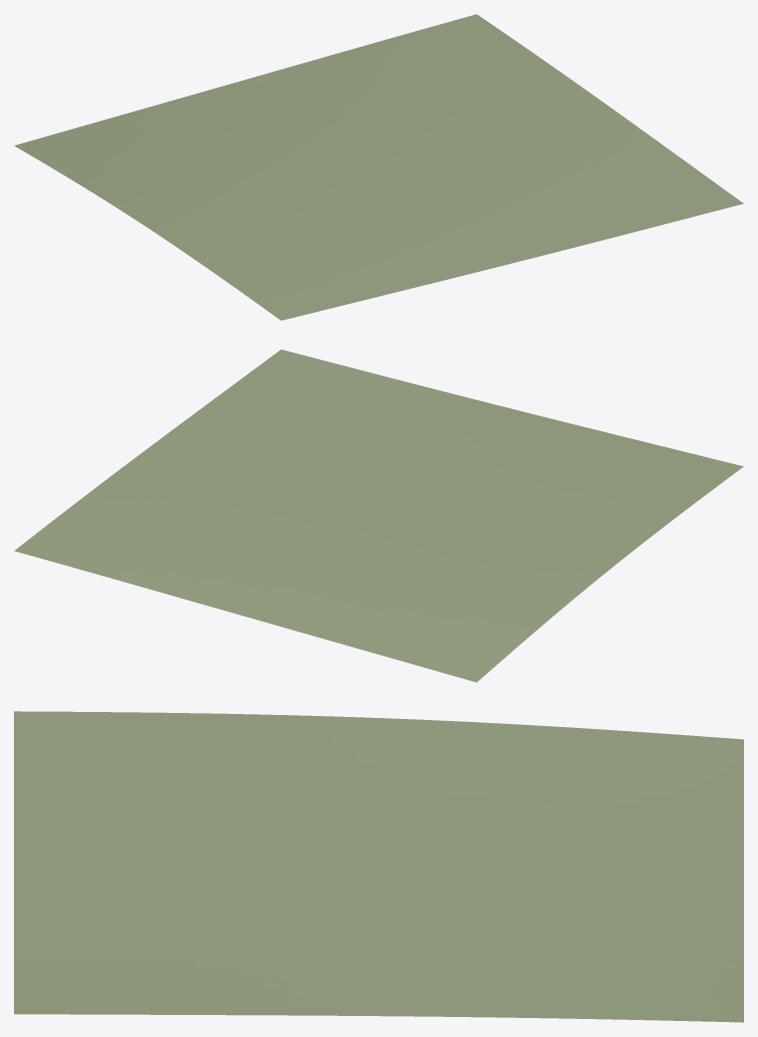
File: desert-26-6.glb
3 renders of one model, top to bottom at view 1: azimuth 30°, elevation 25°; view 2: azimuth 150°, elevation 25°; view 3: azimuth 270°, elevation 25°, orthographic. The views are drawn at different scales.
Visible parts, largest first — view 1: desert-26-6; view 2: desert-26-6; view 3: desert-26-6.
Boxes of the visible parts, x1,y1,x2,y2 form: desert-26-6: (14, 14, 743, 320); desert-26-6: (14, 349, 743, 682); desert-26-6: (14, 711, 743, 1022).
Size of the model in its own units: 512 by 26.08 by 512.
